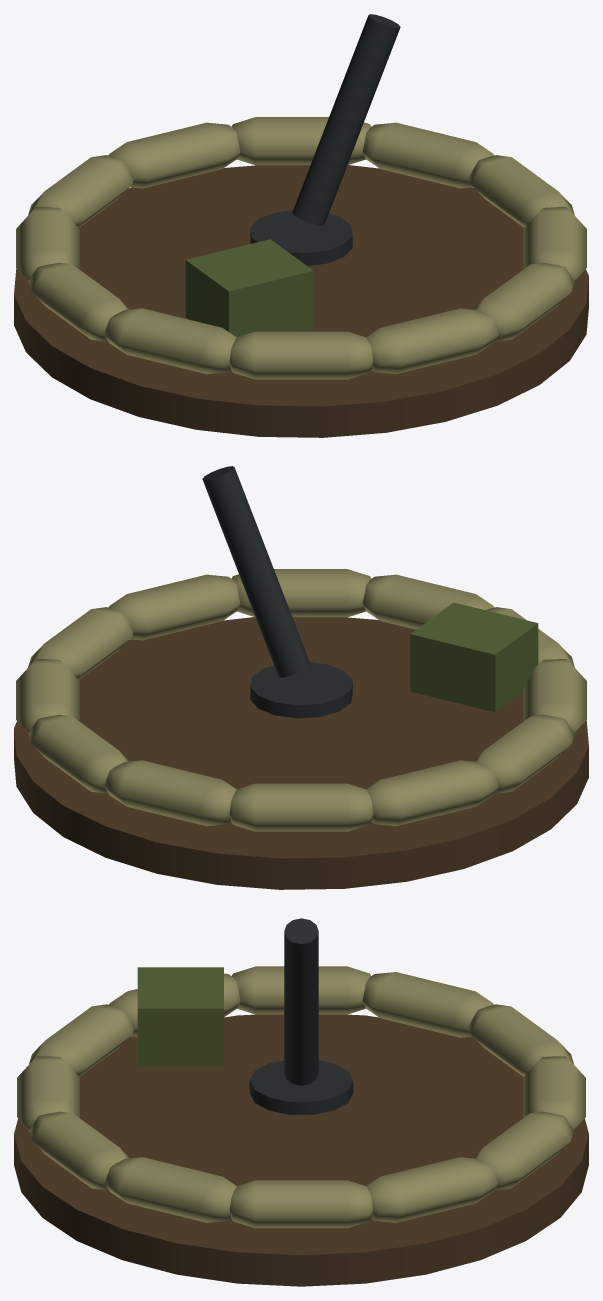
Rendered from mortar-pit.glb.
The picture shows the model from 3 angles, top to bottom: view 1: azimuth 30°, elevation 25°; view 2: azimuth 150°, elevation 25°; view 3: azimuth 270°, elevation 25°; orthographic projection.
Visible parts, largest first — view 1: pitFloor, shellCrate, mortarTube, ringSandbag5, ringSandbag4, ringSandbag6, ringSandbag10, ringSandbag12, ringSandbag11, ringSandbag3, ringSandbag7, ringSandbag1 (+4 smaller); view 2: pitFloor, shellCrate, mortarTube, ringSandbag9, ringSandbag8, ringSandbag10, ringSandbag2, basePlate, ringSandbag3, ringSandbag7, ringSandbag11, ringSandbag4 (+4 smaller); view 3: pitFloor, shellCrate, ringSandbag1, ringSandbag2, ringSandbag12, mortarTube, ringSandbag8, ringSandbag7, ringSandbag3, ringSandbag11, basePlate, ringSandbag5 (+4 smaller).
Part boxes in pixels (box(x1,y1,x2,y2)): pitFloor: box(14, 165, 588, 437); shellCrate: box(185, 239, 313, 337); mortarTube: box(292, 14, 400, 225); ringSandbag5: box(229, 331, 373, 379); ringSandbag4: box(366, 308, 498, 374); ringSandbag6: box(104, 308, 236, 374); ringSandbag10: box(108, 122, 240, 188); ringSandbag12: box(362, 122, 494, 188); ringSandbag11: box(231, 117, 371, 165); ringSandbag3: box(473, 262, 574, 341); ringSandbag7: box(28, 262, 129, 341); ringSandbag1: box(468, 155, 574, 227); pitFloor: box(14, 617, 588, 889); shellCrate: box(410, 602, 538, 712); mortarTube: box(202, 466, 310, 677); ringSandbag9: box(229, 783, 373, 831); ringSandbag8: box(366, 760, 498, 826); ringSandbag10: box(104, 760, 236, 826); ringSandbag2: box(108, 574, 240, 640); basePlate: box(250, 662, 352, 718); ringSandbag3: box(231, 569, 371, 617); ringSandbag7: box(473, 714, 574, 793); ringSandbag11: box(28, 714, 129, 793); ringSandbag4: box(362, 574, 494, 629); pitFloor: box(14, 1014, 588, 1286); shellCrate: box(137, 967, 223, 1065); ringSandbag1: box(230, 1180, 372, 1228); ringSandbag2: box(104, 1157, 236, 1222); ringSandbag12: box(366, 1157, 498, 1222); mortarTube: box(284, 918, 318, 1085); ringSandbag8: box(362, 972, 493, 1037); ringSandbag7: box(232, 966, 370, 1014); ringSandbag3: box(29, 1111, 129, 1190); ringSandbag11: box(473, 1111, 573, 1190); basePlate: box(249, 1060, 353, 1114); ringSandbag5: box(29, 1004, 134, 1076).
Bounding box in the file's own units: 2 × 1.08 × 2.
